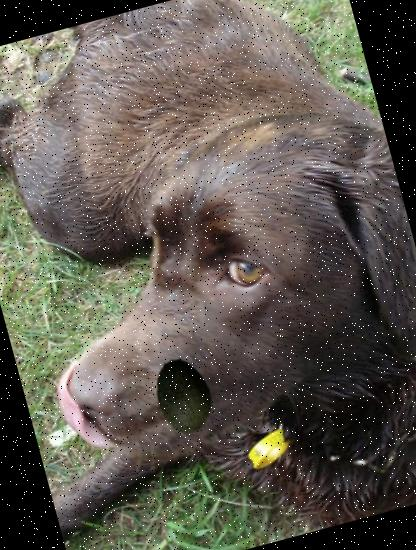Avocado: (138, 349, 231, 442)
